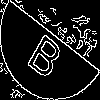B: (25, 24, 71, 81)
